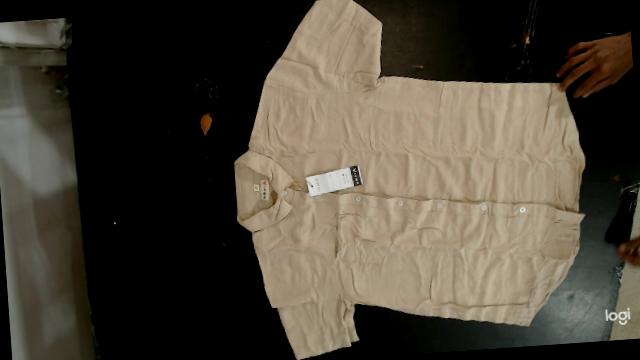new-garment: (234, 0, 584, 359)
